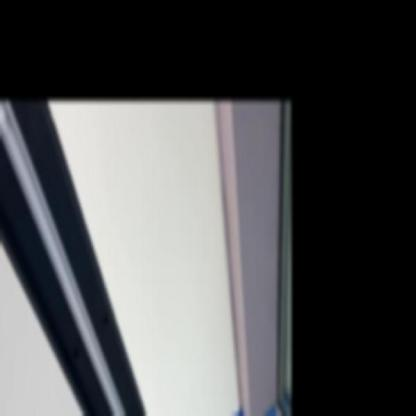light_off: (0, 102, 174, 415)
